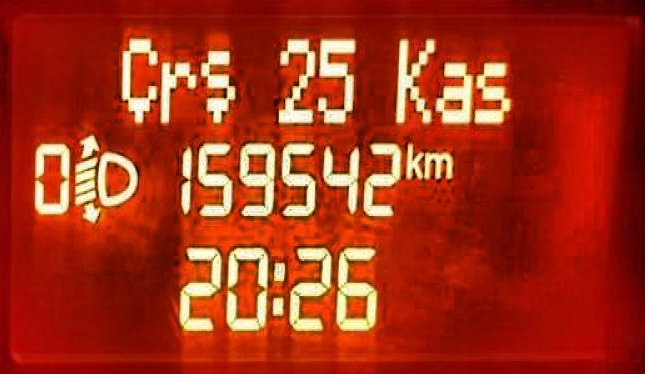0: (224, 244, 269, 330), (31, 139, 70, 215)
1: (179, 144, 193, 215)
2: (175, 242, 222, 331), (272, 34, 316, 125), (287, 244, 331, 330), (360, 139, 404, 217)
4: (320, 142, 359, 216)
5: (317, 36, 356, 122), (195, 139, 234, 217), (277, 141, 316, 216)
6: (332, 244, 377, 332)
9: (236, 141, 275, 216)
X: (394, 34, 435, 124), (120, 35, 157, 124), (199, 47, 235, 122), (471, 59, 511, 124), (434, 59, 473, 124), (159, 57, 196, 122), (422, 149, 451, 179), (404, 139, 424, 179), (271, 259, 285, 315)
